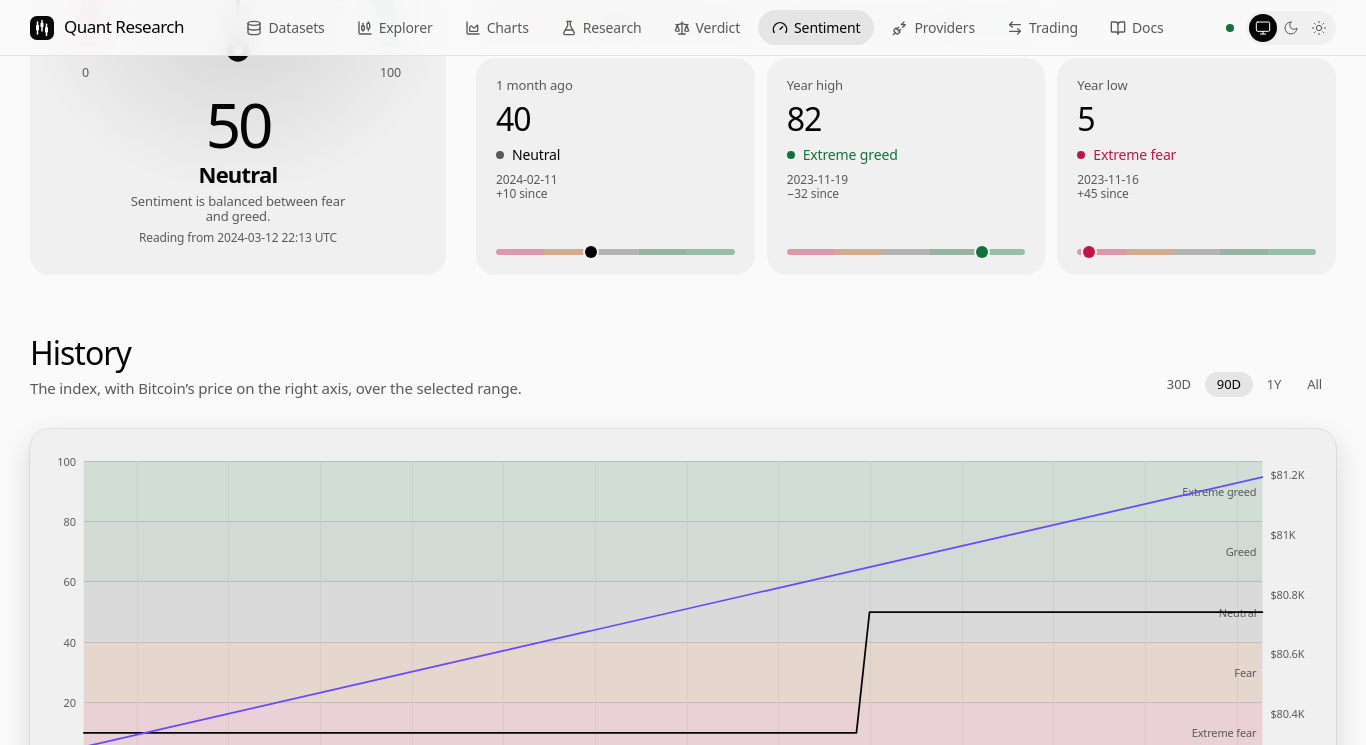
Test: Fear & Greed page › recomputes the zone shares when the range changes
(page scrolled)
Click the radio button labelled "30D" at (1179, 384), box x1=1155 y1=372 x2=1203 y2=397
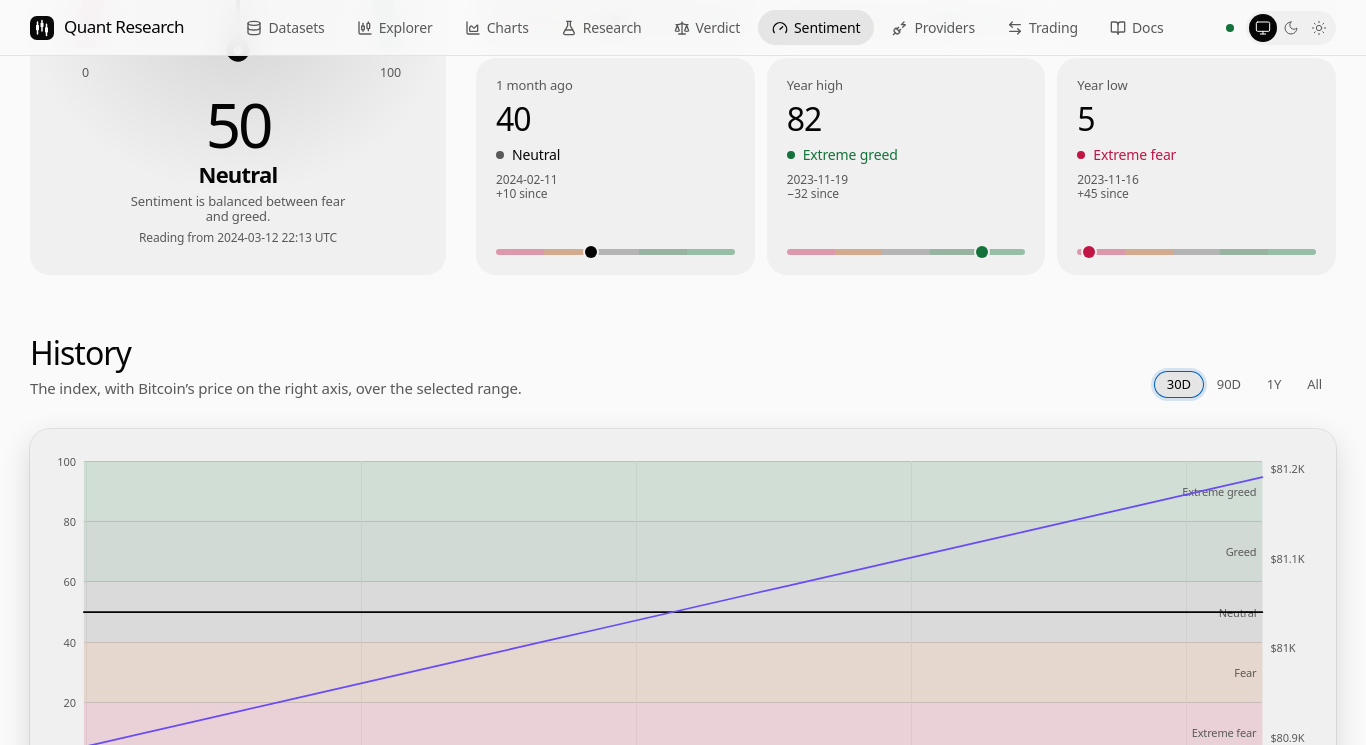
Click the radio button labelled "All" at (1315, 384), box x1=1295 y1=372 x2=1334 y2=397
(page scrolled)
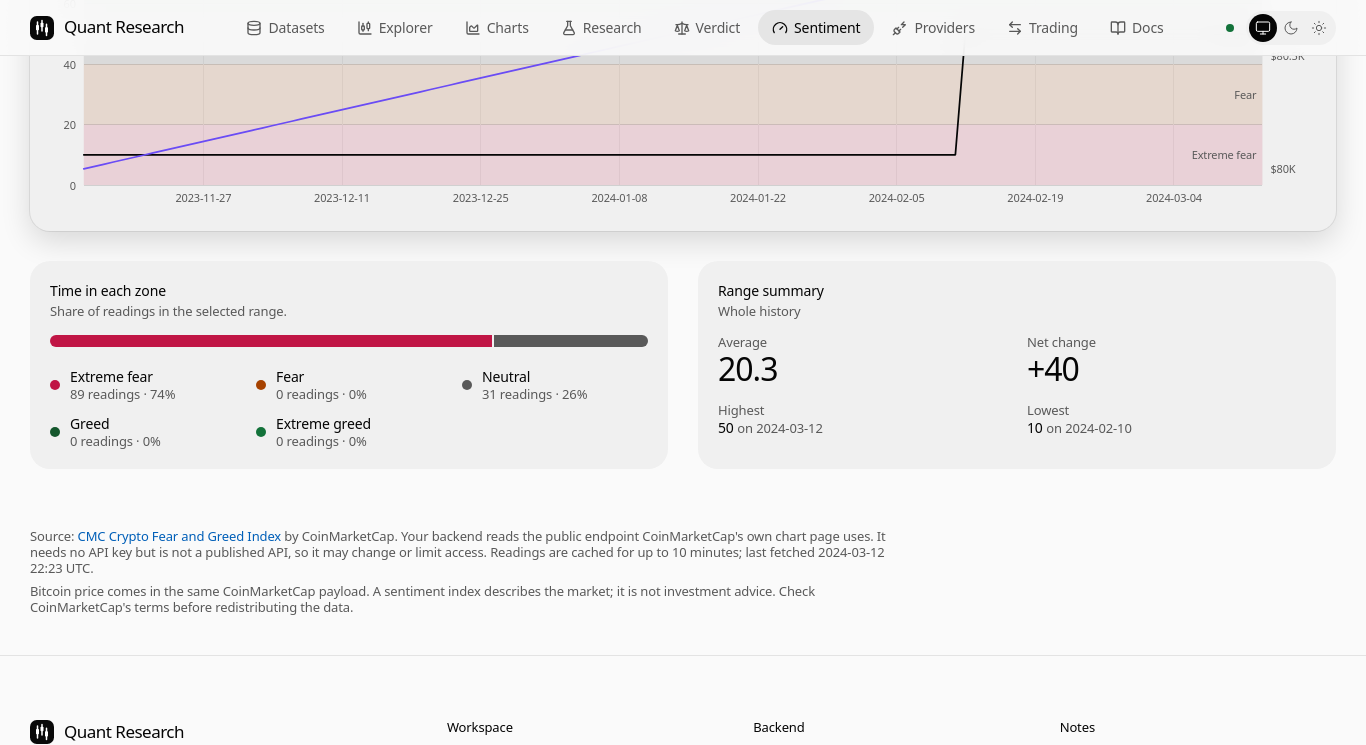
Check: the list item with test id "zone-extreme_fear" shows "89 readings", box x1=70 y1=385 x2=175 y2=403
